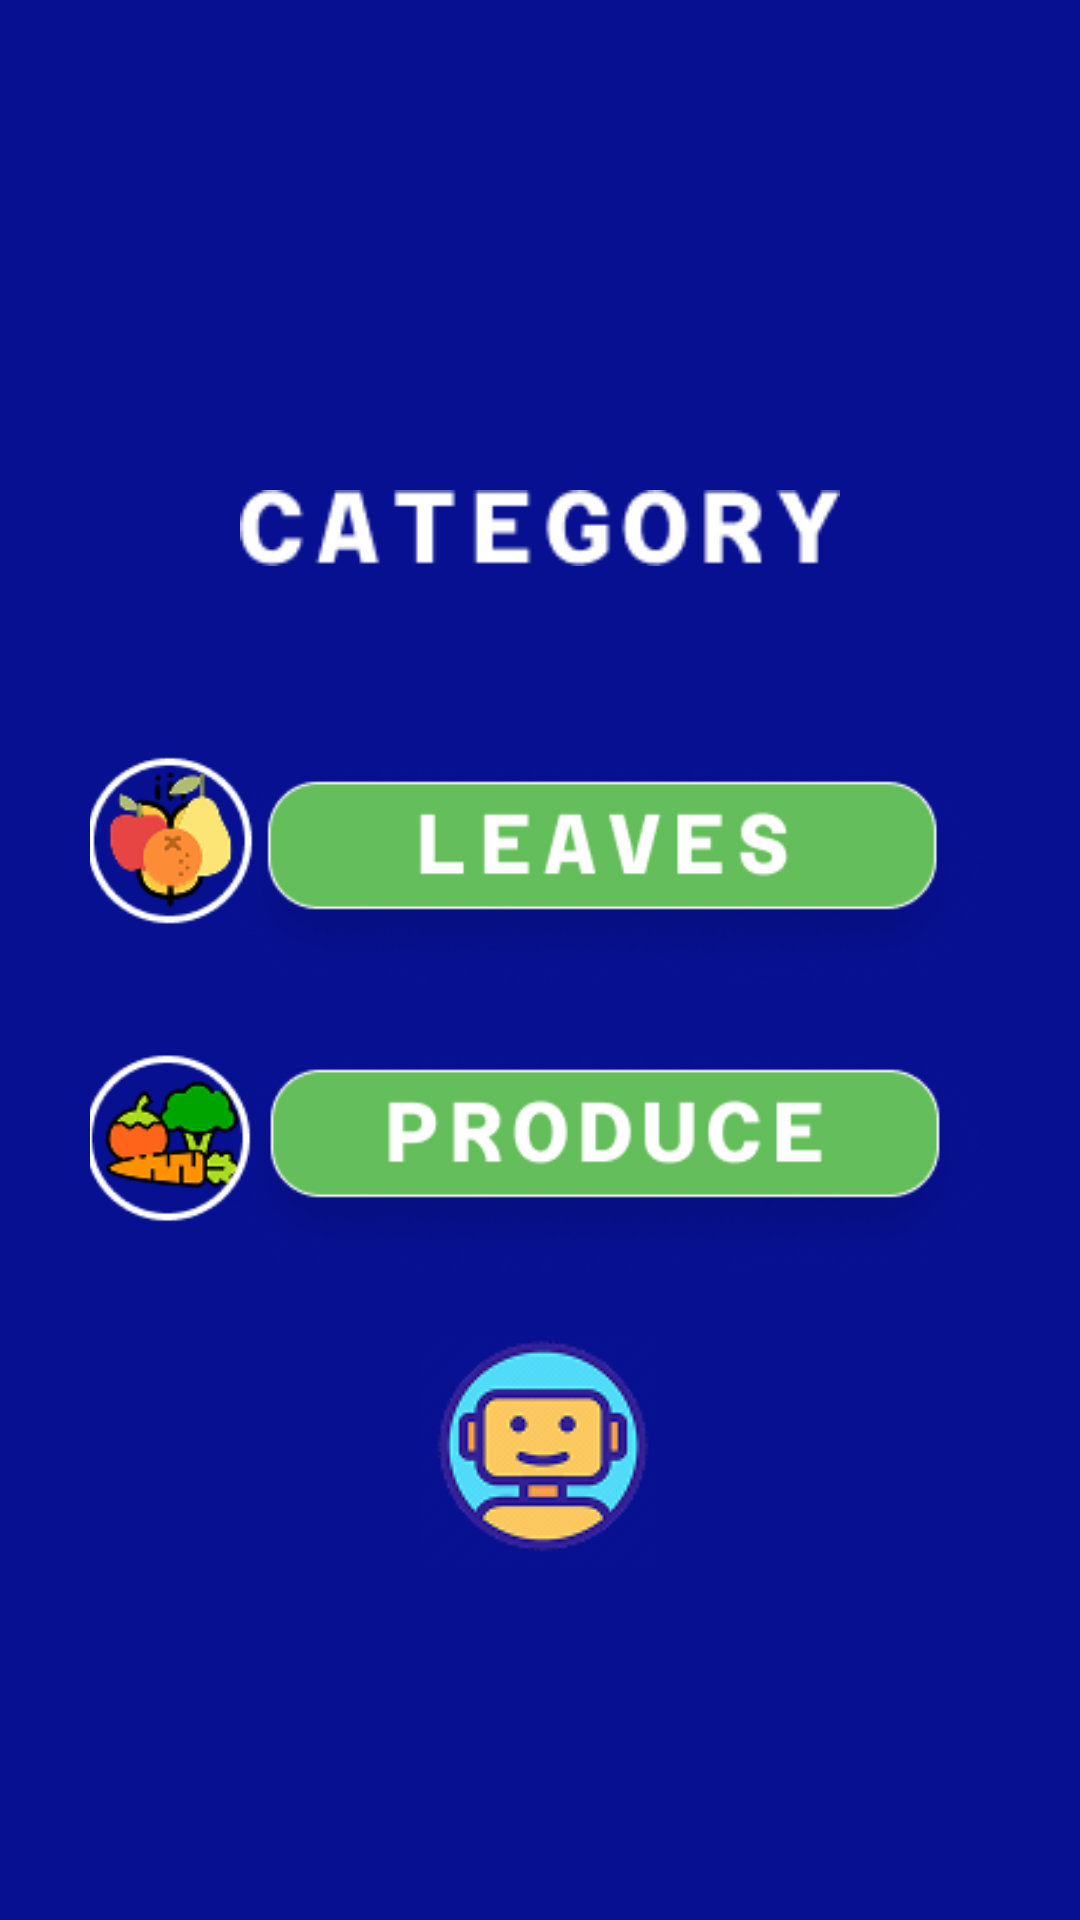

Locate icon controls on the screen. Image size 1080×1920, boxes as (x1, y1, x2, y2).
chatbot: (439, 1342, 647, 1550)
